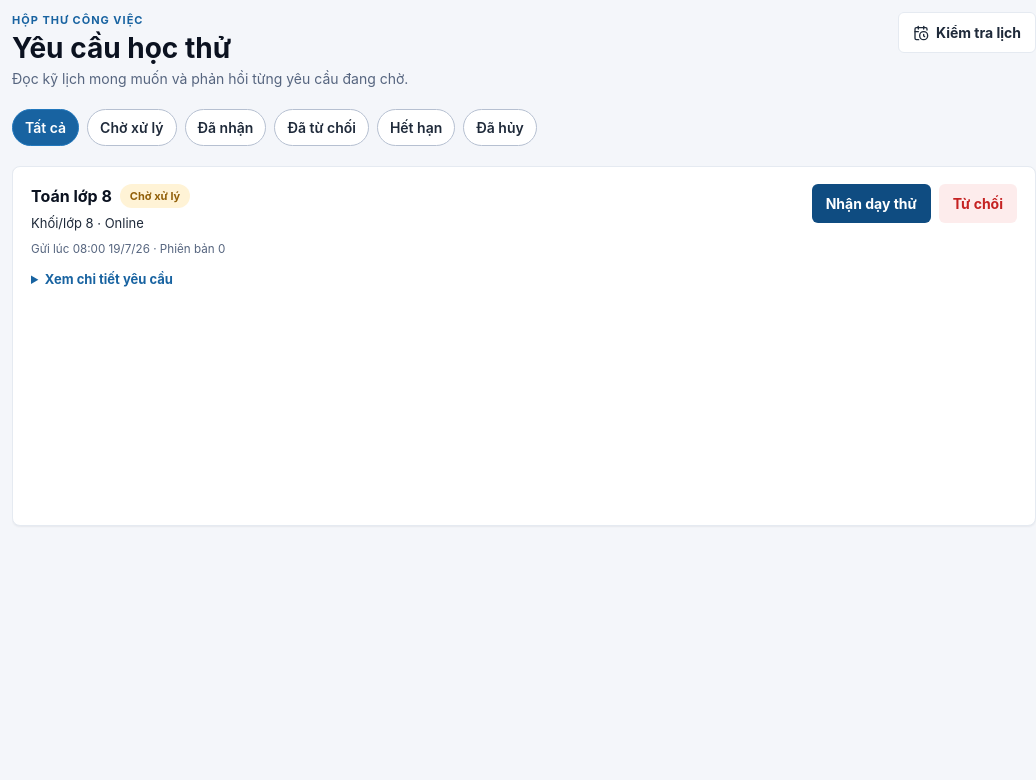
Test case: TrialsPage › guards double accept and renders the class plus activation state from the response
Click the button "Nhận dạy thử": (871, 203) x1=812 y1=184 x2=931 y2=222
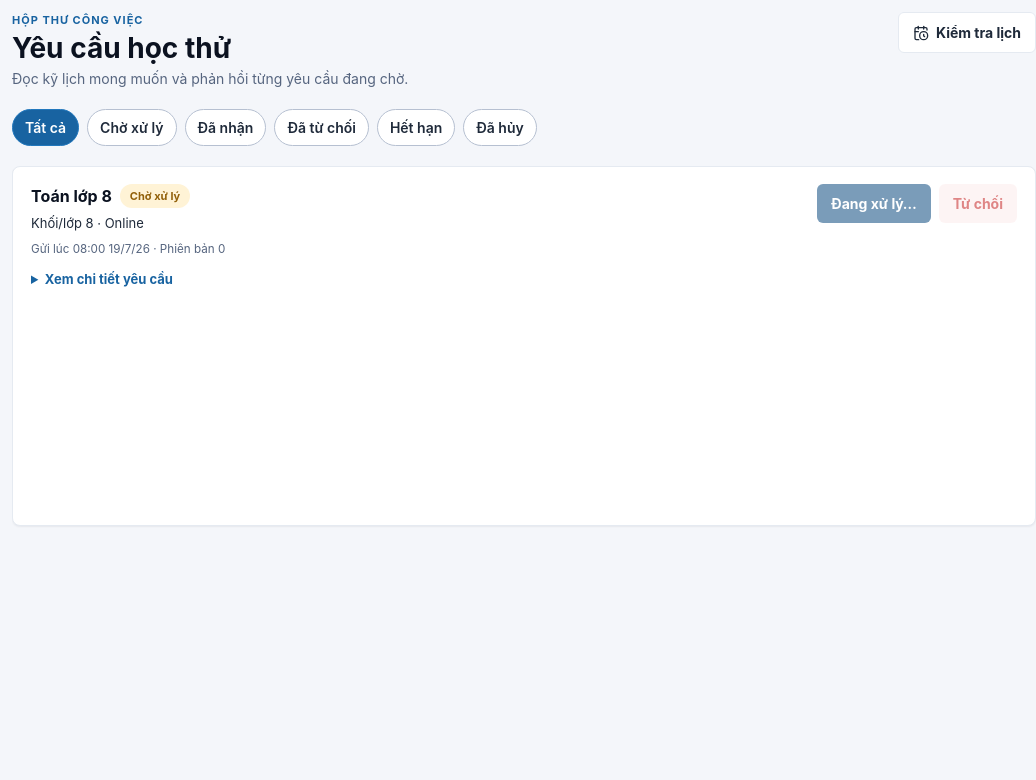
Result: the button named "Nhận dạy thử" is disabled
Click the button named "Nhận dạy thử": (874, 203) x1=817 y1=184 x2=931 y2=222
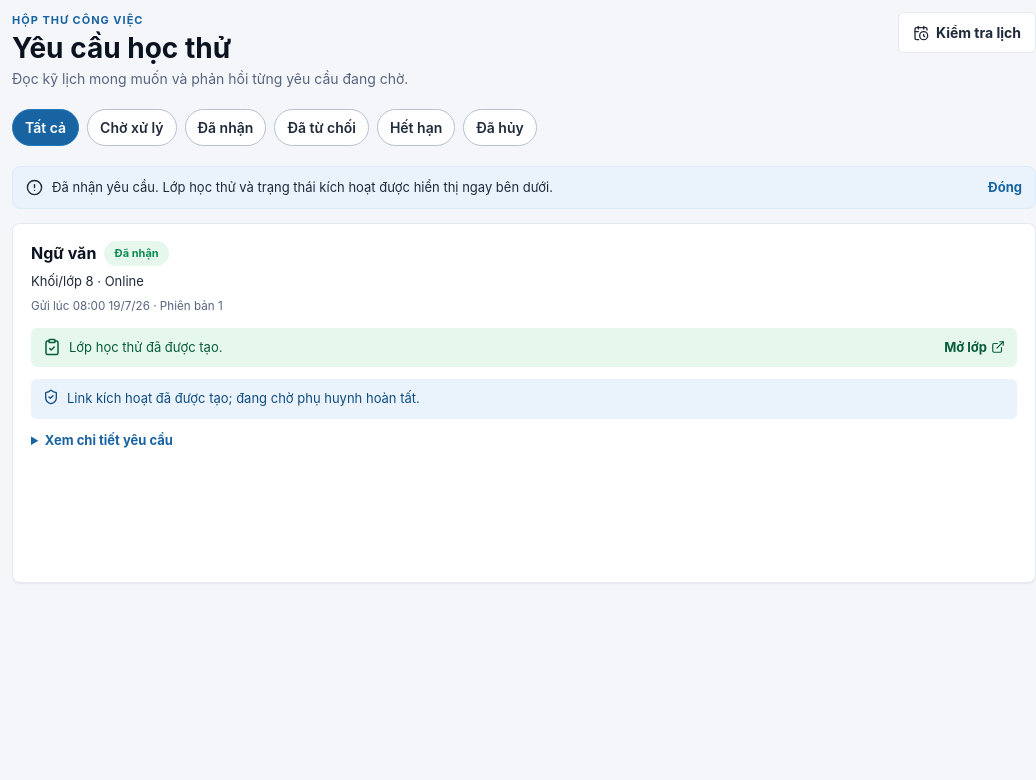
Result: the text "Lớp học thử đã được tạo." is shown at x1=69 y1=338 x2=222 y2=354
Result: the text "Link kích hoạt đã được tạo; đang chờ phụ huynh hoàn tất." is shown at x1=31 y1=379 x2=1017 y2=418
